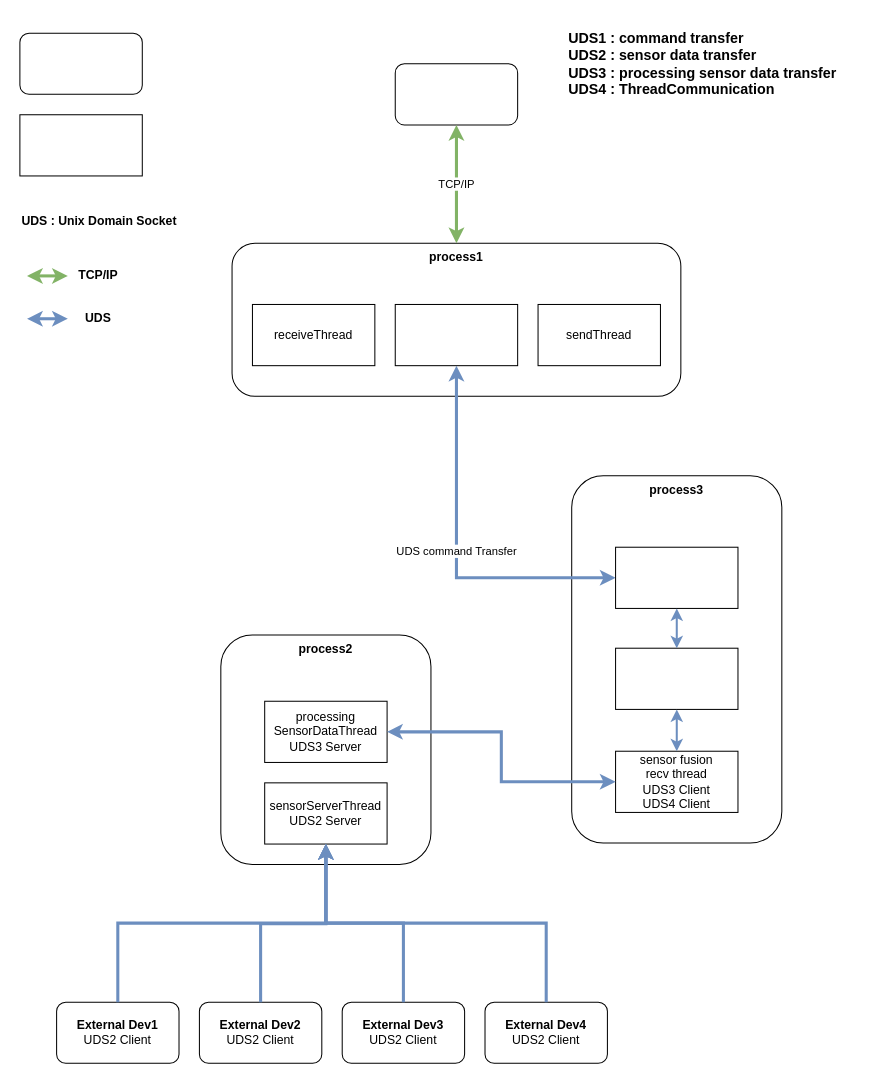
Some shapes in this 870 by 1081 pixel diagram are drawn without their labels. Here are the shapes that lost their labels. From the top down, the centre of each, then its label:
the point at 80,63: process
the point at 456,94: 제어 PC
the point at 80,145: thread
the point at 456,334: command process thread UDS1 Server
the point at 676,577: command recv thread UDS1 Client UDS4 Client
the point at 676,678: uart controller UDS4 Server
